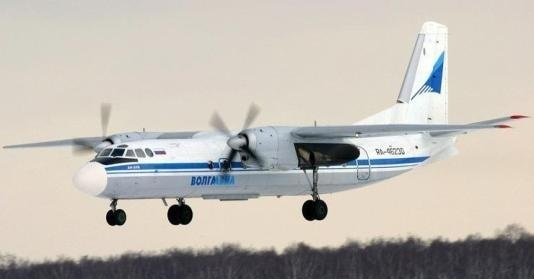airplane: (65, 19, 526, 227)
